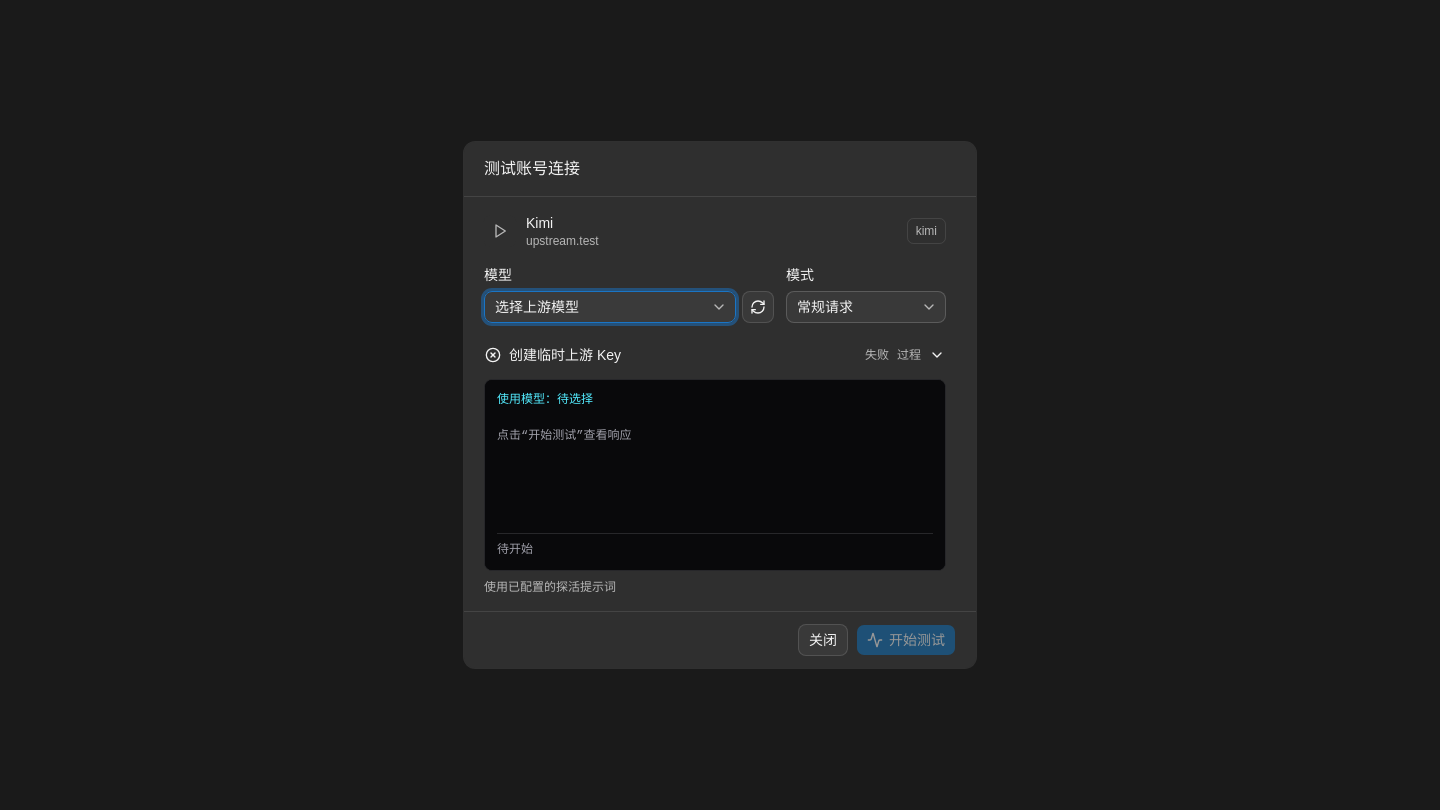
Test: Key 创建失败时保留失败阶段并提供模型获取重试
The width and height of the screenshot is (1440, 810).
Click the button "创建临时上游 Key 失败 过程" at coordinates (565, 355), box x1=484 y1=339 x2=946 y2=371
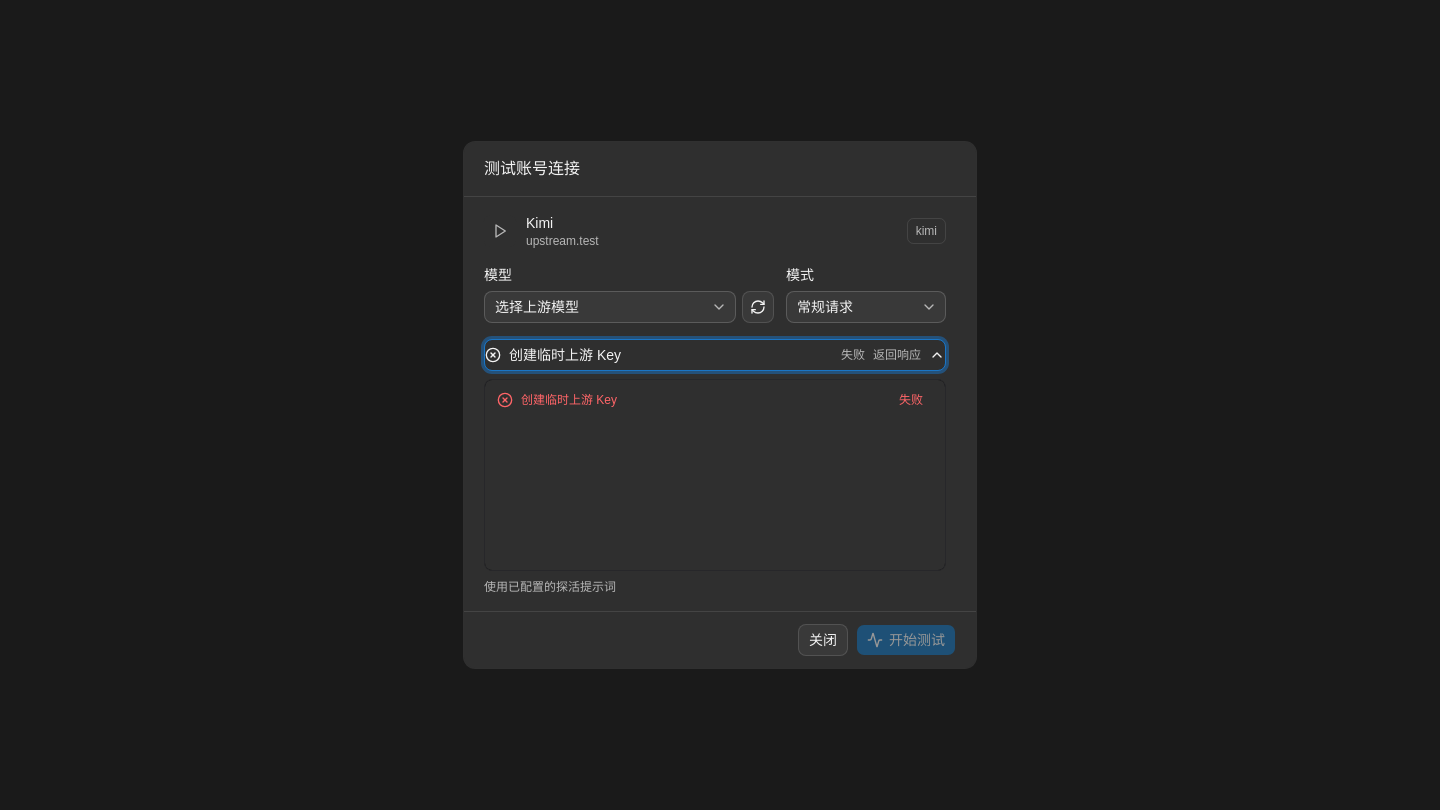
Check: the button named "获取上游模型" is enabled, box x1=742 y1=291 x2=774 y2=323
Check: the 2nd text "失败" is shown, box x1=899 y1=392 x2=923 y2=408
